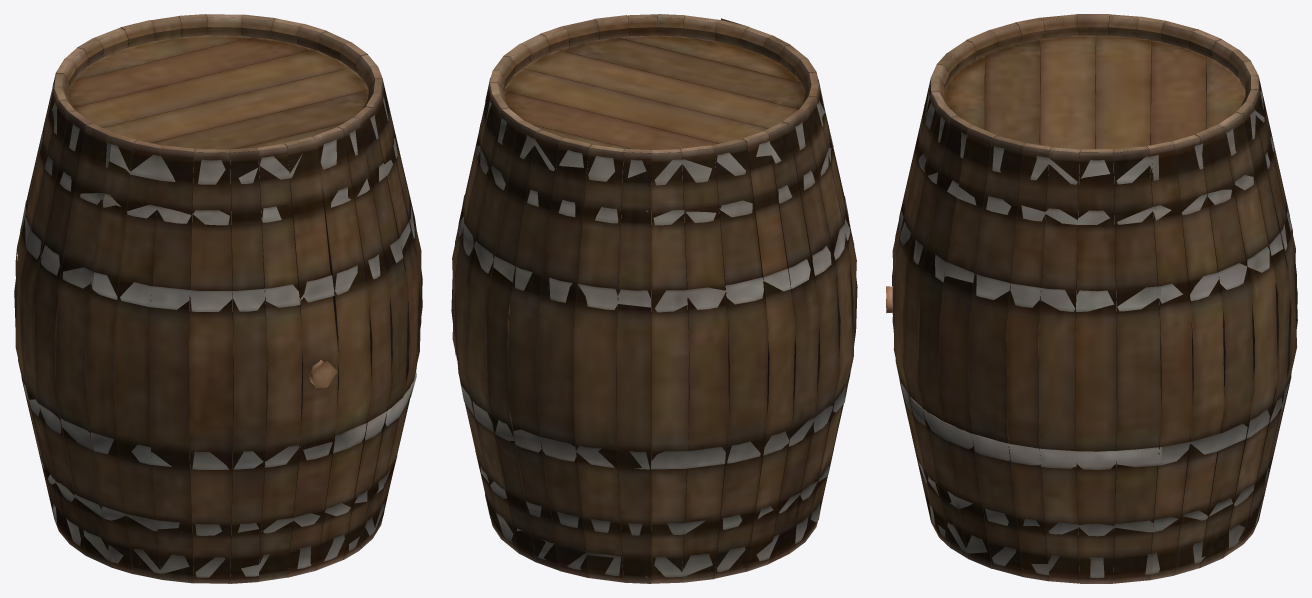
The model's file is wine_barrel_01.glb.
3 renders of one model, left to right at view 1: azimuth 30°, elevation 25°; view 2: azimuth 150°, elevation 25°; view 3: azimuth 270°, elevation 25°, orthographic.
Parts seen in each view (by area): view 1: wine_barrel_01_Lid; view 2: wine_barrel_01_Lid; view 3: wine_barrel_01_Lid.
Part boxes in pixels (x1,y1,x2,y2): wine_barrel_01_Lid: [14, 14, 422, 583]; wine_barrel_01_Lid: [451, 14, 857, 583]; wine_barrel_01_Lid: [886, 14, 1297, 583].
Size of the model in its own units: 0.742 by 0.8716 by 0.7525.
1 material, 1 textured.
